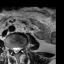CCS_normal: (15, 44, 17, 55)
LFS_stenosis: (21, 43, 23, 51)
LLS_normal: (17, 44, 21, 53)
RFS_normal: (9, 43, 12, 54)
RLS_normal: (12, 43, 15, 53)
